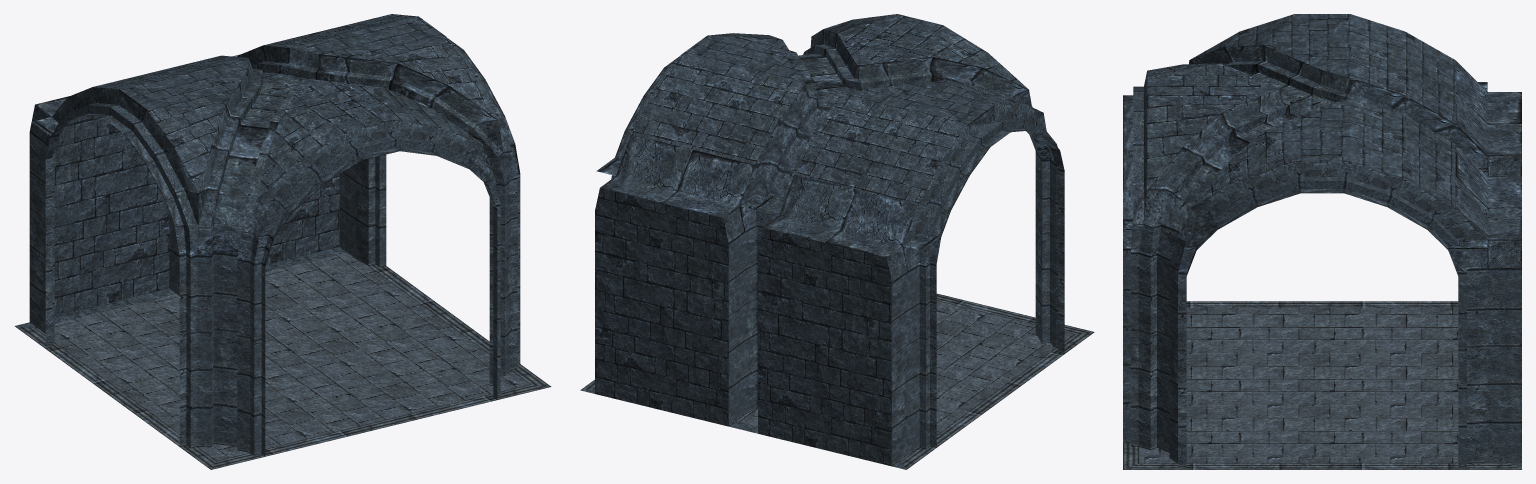
File: wall_3side.FBX
3 views of the same model, side by side, from view 1: azimuth 30°, elevation 25°; view 2: azimuth 150°, elevation 25°; view 3: azimuth 270°, elevation 25° (orthographic). The views are drawn at different scales.
Parts seen in each view (by area): view 1: 3side_tunnel; view 2: 3side_tunnel; view 3: 3side_tunnel.
Part boxes in pixels (<box>): 3side_tunnel: <box>15,14,551,469</box>; 3side_tunnel: <box>580,14,1094,469</box>; 3side_tunnel: <box>1123,14,1521,469</box>.
Bounding box in the file's own units: 91.85 × 75.6 × 91.86.
